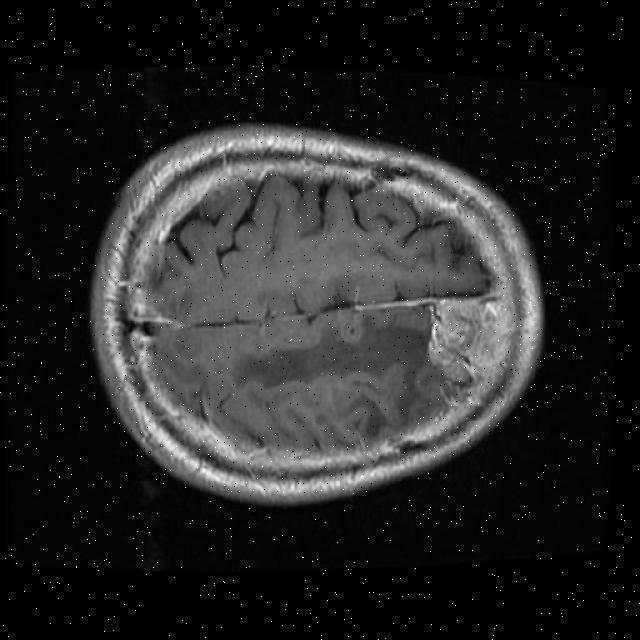Meningioma: (430, 294, 512, 397)
